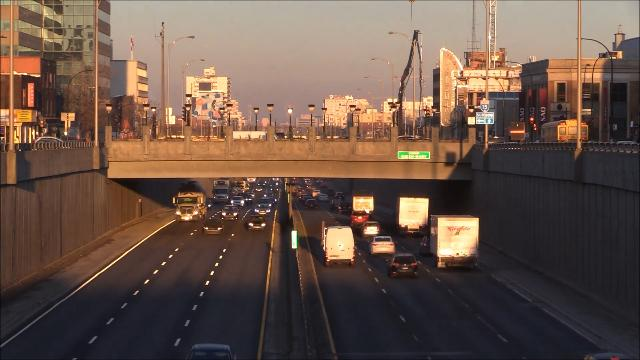bus: (540, 119, 591, 148)
car: (388, 252, 419, 278), (369, 235, 397, 257), (204, 218, 225, 235), (361, 222, 383, 238), (246, 215, 267, 231), (350, 211, 370, 226), (222, 205, 239, 222), (253, 204, 272, 216), (330, 199, 345, 211), (304, 198, 319, 210), (339, 201, 351, 214), (231, 195, 244, 207), (239, 193, 252, 205), (258, 199, 273, 208), (266, 195, 278, 205), (301, 194, 312, 204), (203, 199, 212, 209), (270, 184, 280, 193), (293, 187, 304, 195), (318, 193, 329, 201), (334, 192, 345, 200), (327, 188, 335, 197), (311, 190, 321, 197)
truck: (430, 214, 482, 268), (395, 196, 430, 235), (175, 181, 206, 221), (352, 189, 374, 214), (213, 179, 230, 203)
van: (323, 225, 357, 266)
